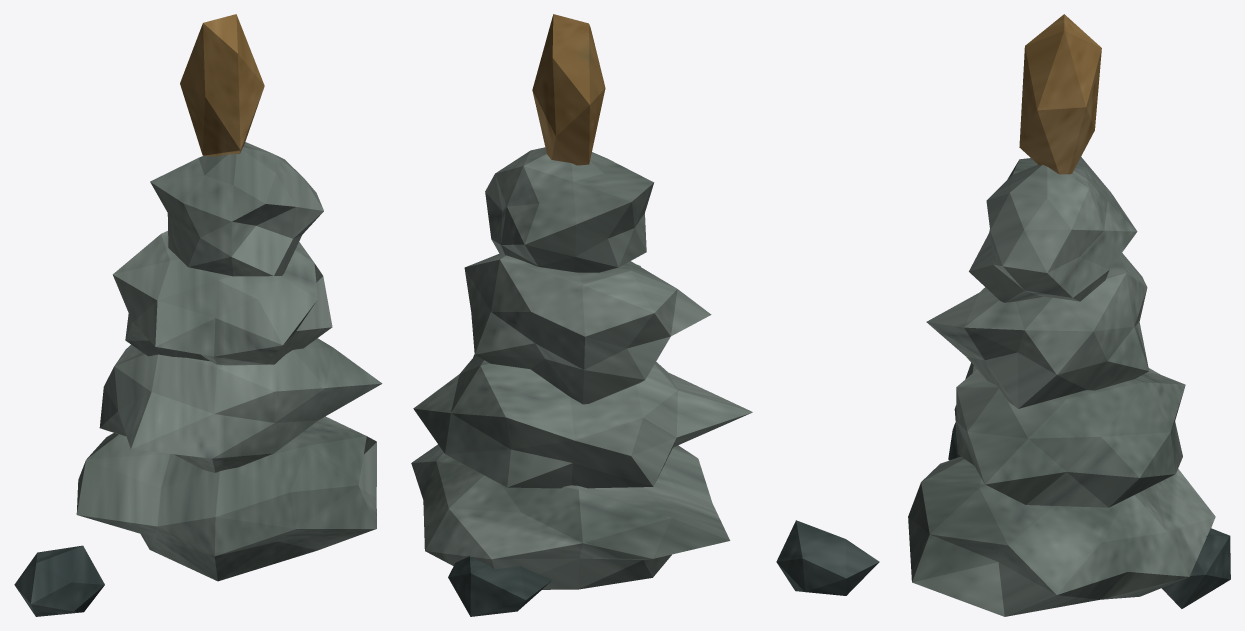
Rendered from 0608_cairn_08.glb.
3 views of the same model, side by side, from view 1: azimuth 30°, elevation 25°; view 2: azimuth 150°, elevation 25°; view 3: azimuth 270°, elevation 25° (orthographic). The views are drawn at different scales.
Visible parts, largest first — view 1: stone, brass, stone_dark; view 2: stone, stone_dark, brass; view 3: stone, brass, stone_dark.
Boxes of the visible parts, bbox=[...] form: stone: bbox=[76, 142, 382, 581]; brass: bbox=[180, 14, 264, 156]; stone_dark: bbox=[14, 545, 104, 616]; stone: bbox=[411, 147, 752, 589]; stone_dark: bbox=[448, 520, 879, 616]; brass: bbox=[532, 14, 605, 165]; stone: bbox=[908, 157, 1215, 616]; brass: bbox=[1019, 14, 1101, 174]; stone_dark: bbox=[948, 423, 1230, 608].
Bounding box in the file's own units: 1.43 × 1.82 × 0.9451.
Materials: 3 (3 with a texture image).
